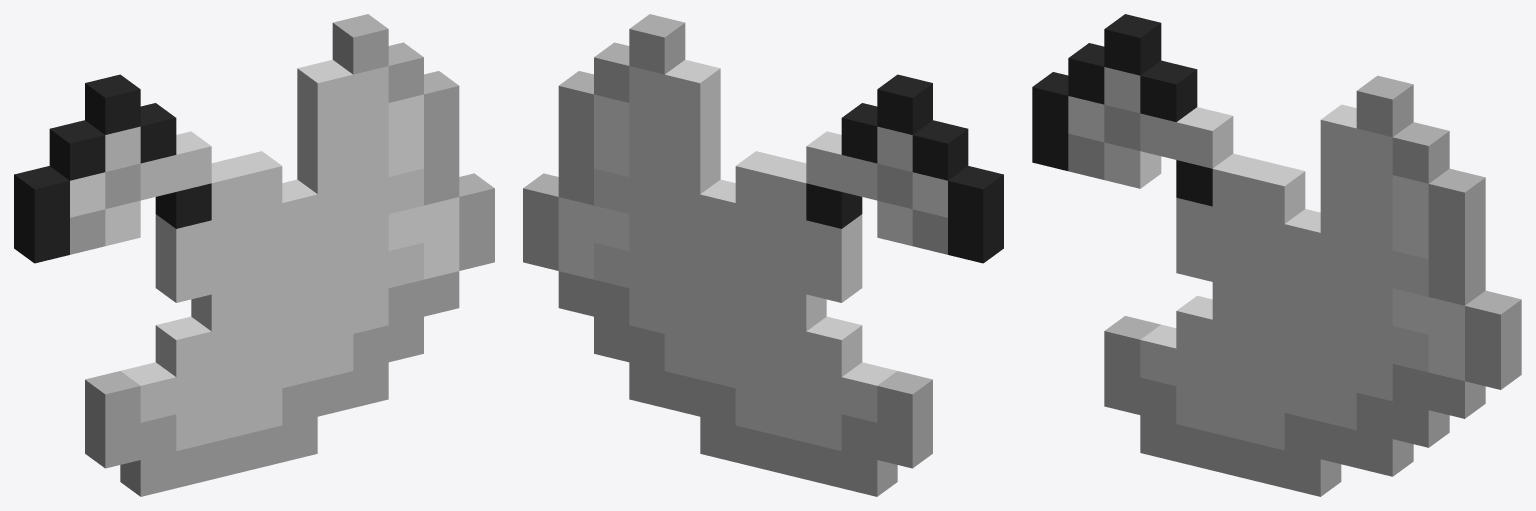
Rendered from AxeHead.obj.
3 views of the same model, side by side, from view 1: azimuth 30°, elevation 25°; view 2: azimuth 150°, elevation 25°; view 3: azimuth 330°, elevation 25° (orthographic).
Bounding box in the file's own units: 1.3 × 1.1 × 0.1.
Materials: 1 (1 with a texture image).
